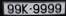.: (30, 8, 32, 10)
9: (7, 4, 14, 14), (40, 4, 47, 14), (55, 4, 62, 13), (15, 4, 21, 14), (33, 4, 39, 14), (48, 4, 54, 14)
K: (22, 4, 28, 15)
